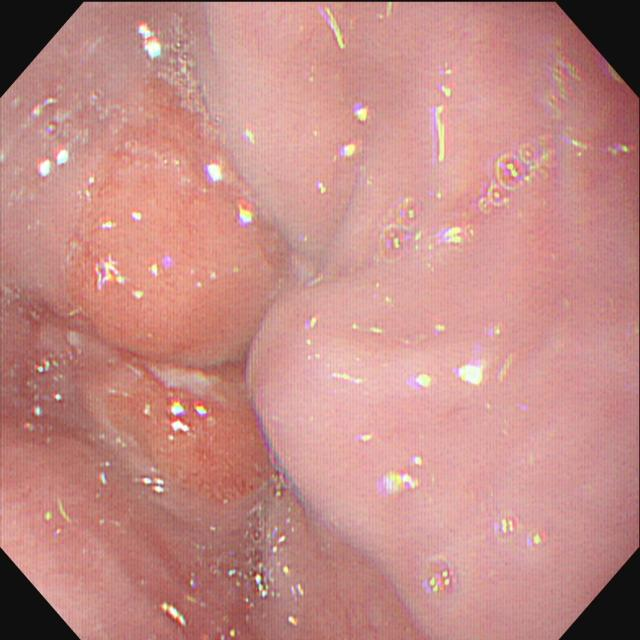I: (62, 43, 218, 212), (77, 392, 246, 538), (14, 207, 132, 341), (209, 138, 316, 275)
T: (219, 483, 294, 613), (475, 137, 557, 217), (15, 349, 80, 437), (378, 195, 424, 266), (494, 510, 550, 553), (422, 554, 458, 601)
U: (433, 62, 454, 165), (343, 106, 371, 160), (170, 400, 208, 437), (36, 144, 74, 180), (94, 256, 131, 291), (137, 22, 165, 64), (383, 469, 422, 498), (457, 361, 490, 389), (235, 200, 257, 231), (206, 162, 228, 187), (413, 370, 435, 392)
